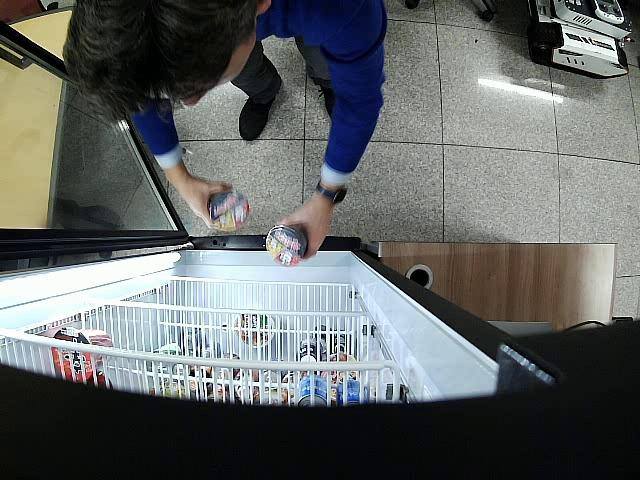00_hand: (278, 191, 333, 258), (183, 178, 233, 229)
08_buldak_S: (209, 190, 250, 232), (266, 225, 308, 266)
